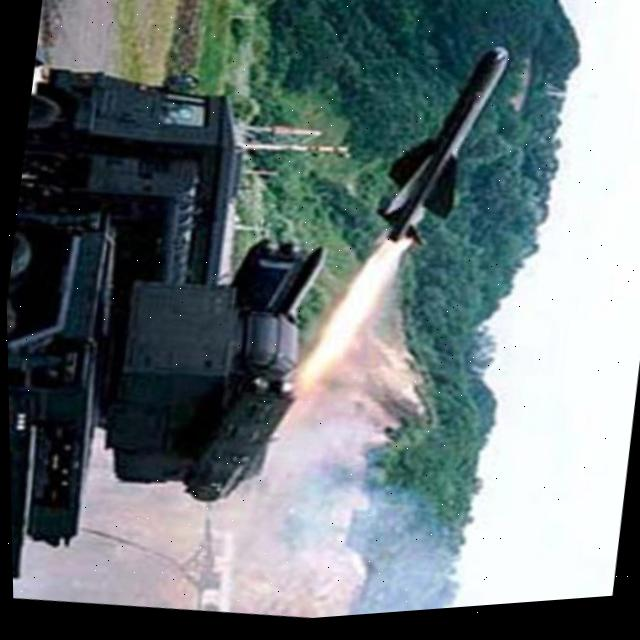missile: (368, 33, 520, 278)
